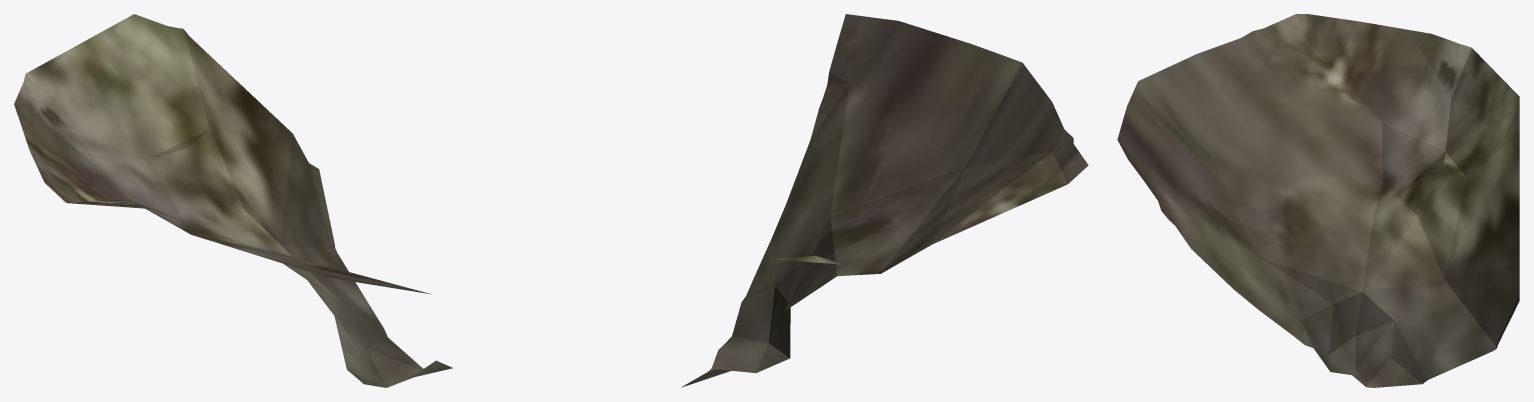
3 views of the same model, side by side, from view 1: azimuth 30°, elevation 25°; view 2: azimuth 150°, elevation 25°; view 3: azimuth 270°, elevation 25° (orthographic). The views are drawn at different scales.
Bounding box in the file's own units: 0.9178 × 0.6674 × 1.07.
1 material, 1 textured.
